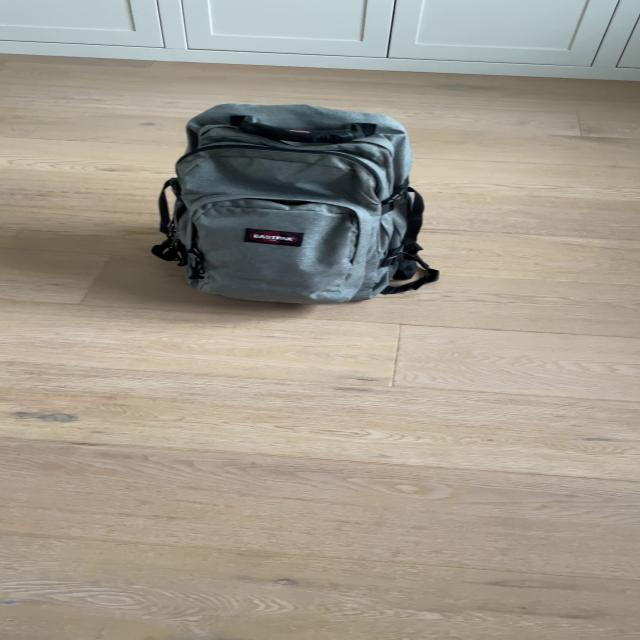backpack: (142, 91, 439, 313)
